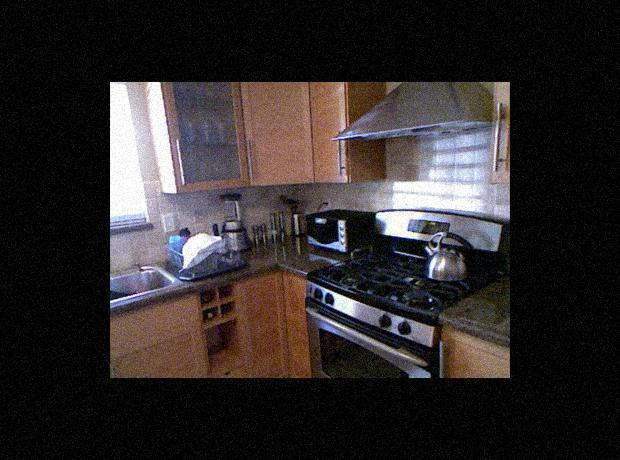Electrodomestico: (307, 208, 504, 376)
